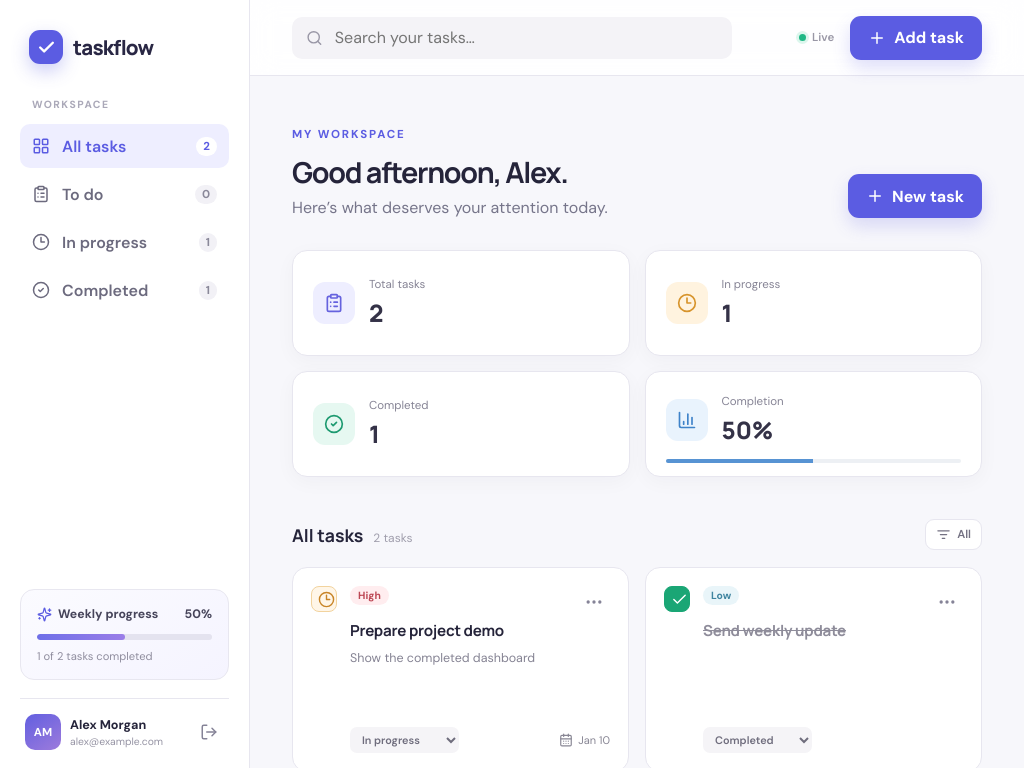
Test: Dashboard › shows progress and filters tasks by status
Expected: the text "50%" is shown 2 times, [185, 606, 212, 622]; [722, 413, 773, 446]
Click the button "Completed 1": (124, 290) [20, 268, 229, 312]
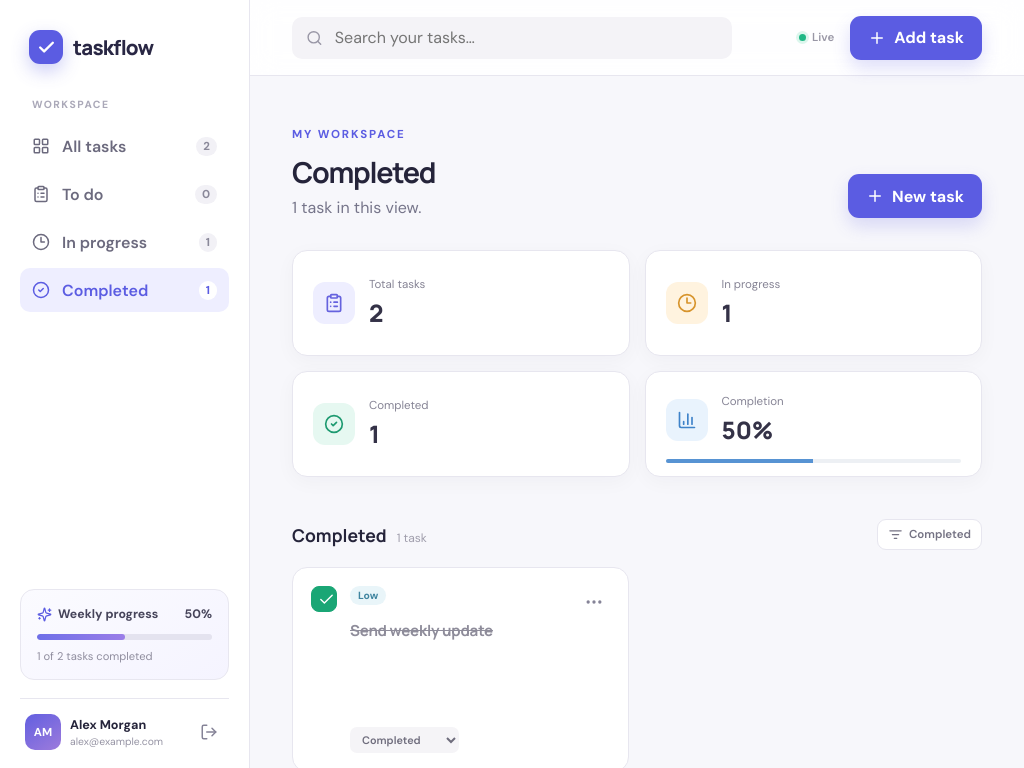
Expected: the heading "Send weekly update" is shown, [350, 620, 493, 641]
Result: the heading "Prepare project demo" is gone
